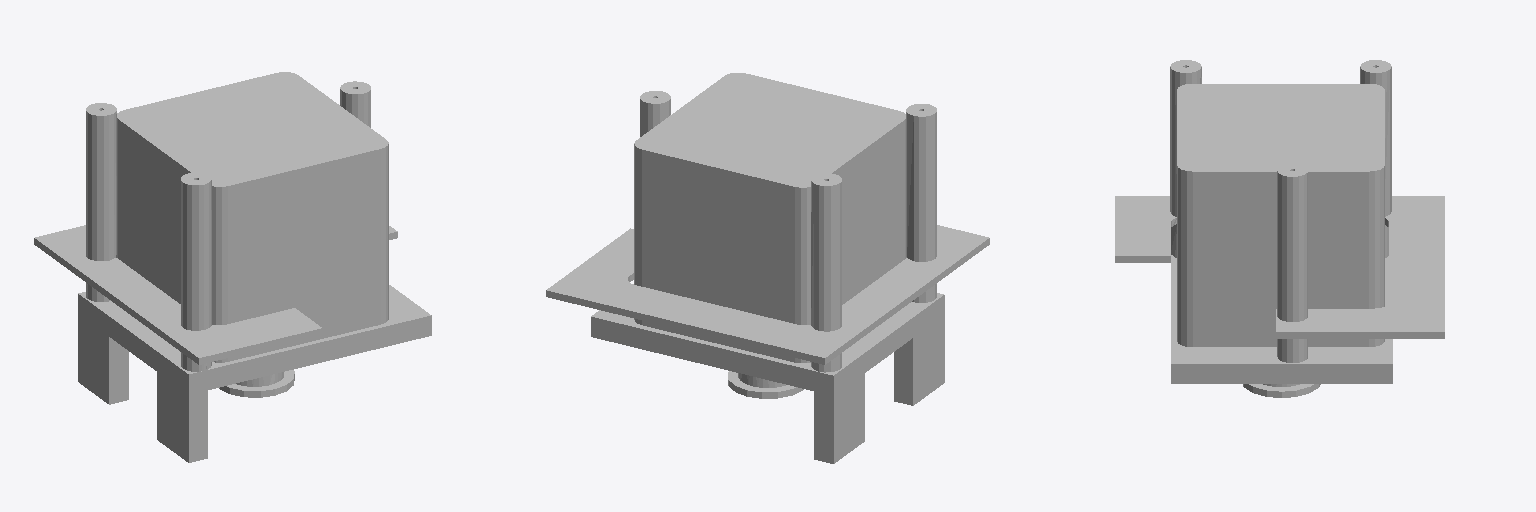
The model's file is xmotor.obj.
3 renders of one model, left to right at view 1: azimuth 30°, elevation 25°; view 2: azimuth 150°, elevation 25°; view 3: azimuth 270°, elevation 25°, orthographic.
Visible parts, largest first — view 1: object_1; view 2: object_1; view 3: object_1.
Boxes of the visible parts, <box> form: object_1: <box>34,72,431,462</box>; object_1: <box>546,73,989,463</box>; object_1: <box>1115,60,1444,397</box>.
Bounding box in the file's own units: 2.56 × 2.41 × 2.62.